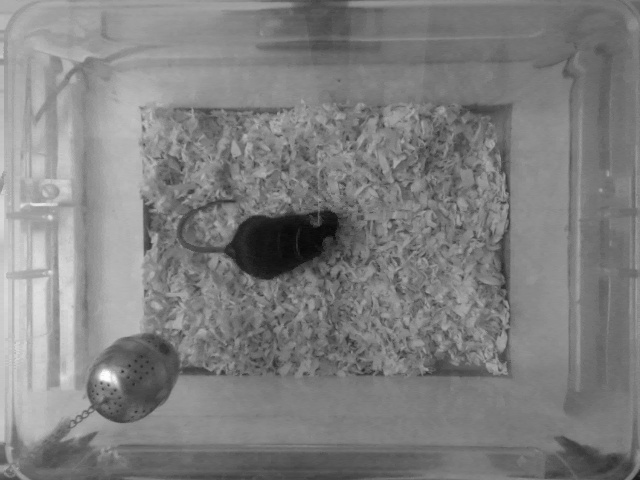mice: (178, 190, 342, 284)
